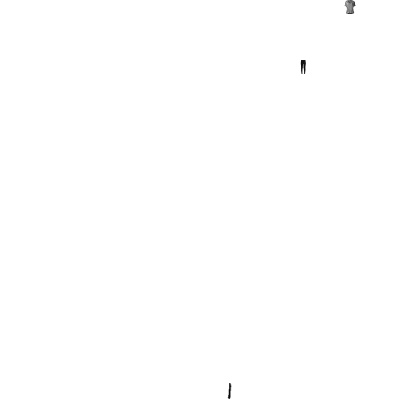1: (218, 380, 240, 402)
T-shirt/top: (343, 0, 357, 14)
Trouser: (296, 60, 310, 74)
